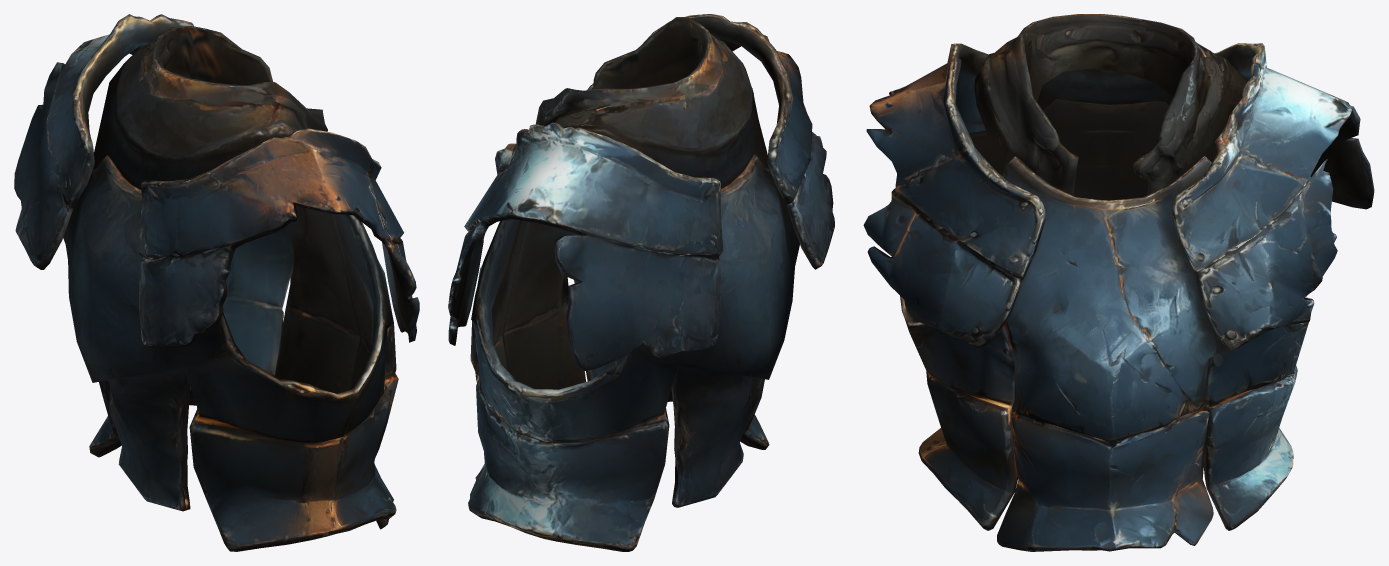
Rendered from chest.glb.
3 renders of one model, left to right at view 1: azimuth 30°, elevation 25°; view 2: azimuth 150°, elevation 25°; view 3: azimuth 270°, elevation 25°, orthographic.
Parts seen in each view (by area): view 1: tripo_node_919beb58-38ad-4861-bb5c-23be693bc5e3; view 2: tripo_node_919beb58-38ad-4861-bb5c-23be693bc5e3; view 3: tripo_node_919beb58-38ad-4861-bb5c-23be693bc5e3.
Boxes of the visible parts, x1=… form: tripo_node_919beb58-38ad-4861-bb5c-23be693bc5e3: x1=14, y1=14, x2=419, y2=551; tripo_node_919beb58-38ad-4861-bb5c-23be693bc5e3: x1=448, y1=14, x2=834, y2=551; tripo_node_919beb58-38ad-4861-bb5c-23be693bc5e3: x1=863, y1=14, x2=1374, y2=551.
Size of the model in its own units: 0.6479 by 0.9946 by 0.9995.
1 material, 1 textured.
